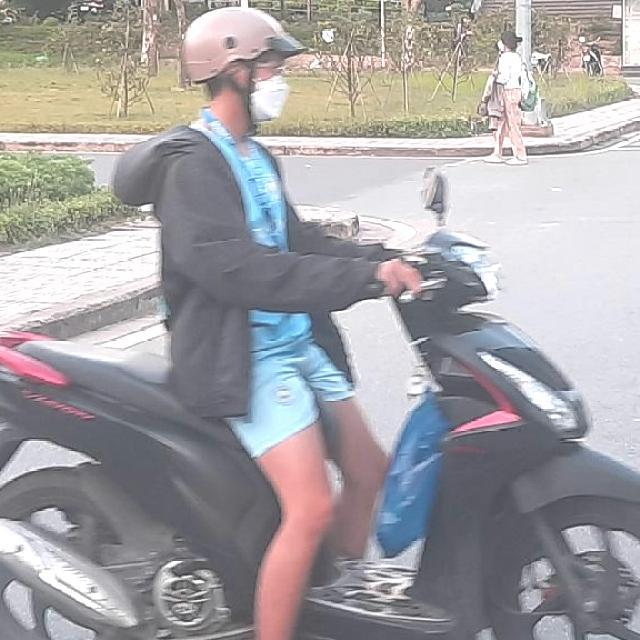Helmet: (180, 4, 304, 129)
